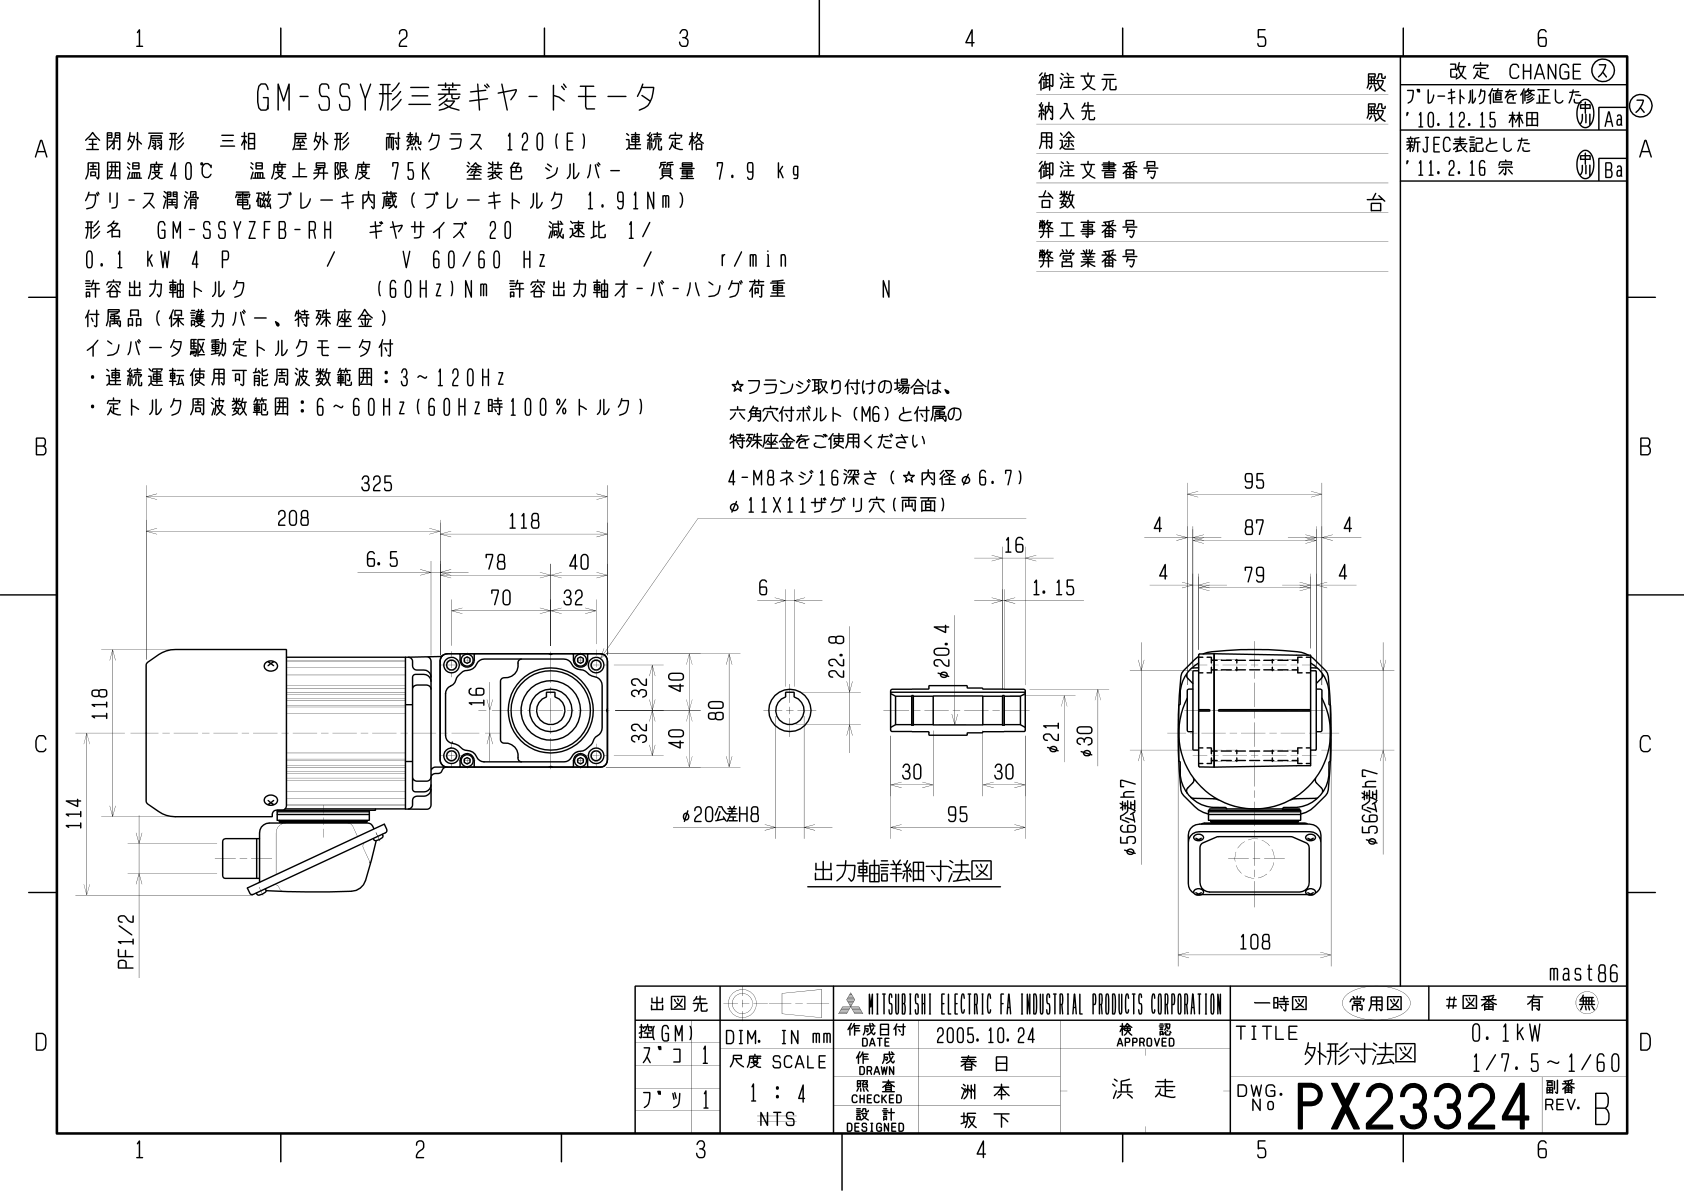GM_SSY_インバータ屋外_三相: (58, 443, 1401, 969)
